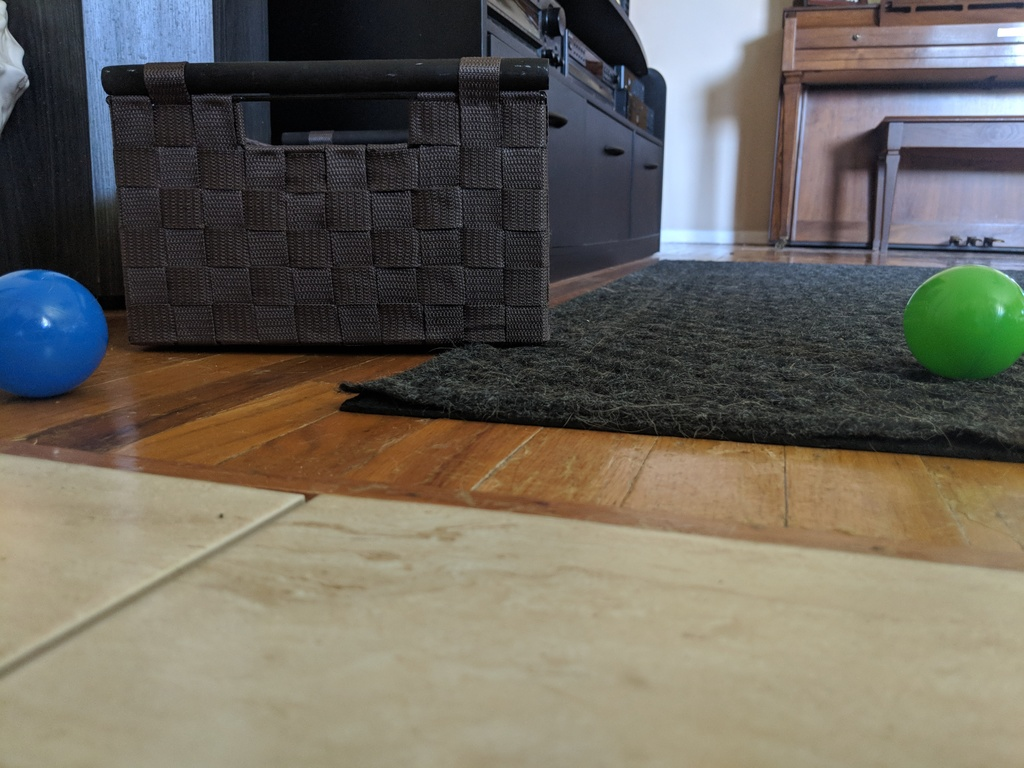ball: (898, 262, 1023, 385)
